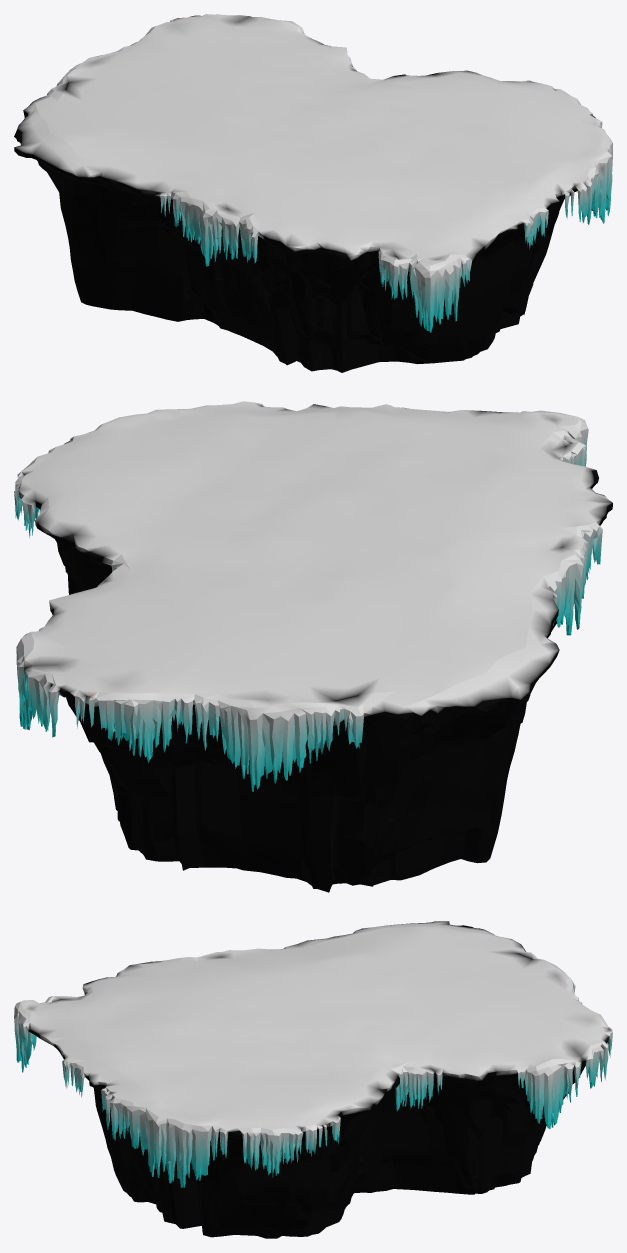
File: CliffIce_5.fbx
The picture shows the model from 3 angles, top to bottom: view 1: azimuth 30°, elevation 25°; view 2: azimuth 150°, elevation 25°; view 3: azimuth 270°, elevation 25°; orthographic projection. The views are drawn at different scales.
Parts seen in each view (by area): view 1: CliffIce_5_LOD0; view 2: CliffIce_5_LOD0; view 3: CliffIce_5_LOD0.
Part boxes in pixels (<box>): CliffIce_5_LOD0: <box>14,14,612,372</box>; CliffIce_5_LOD0: <box>14,401,612,892</box>; CliffIce_5_LOD0: <box>14,921,612,1238</box>.
Size of what is drawn, in the model's own units: 1973 by 674 by 2329.
